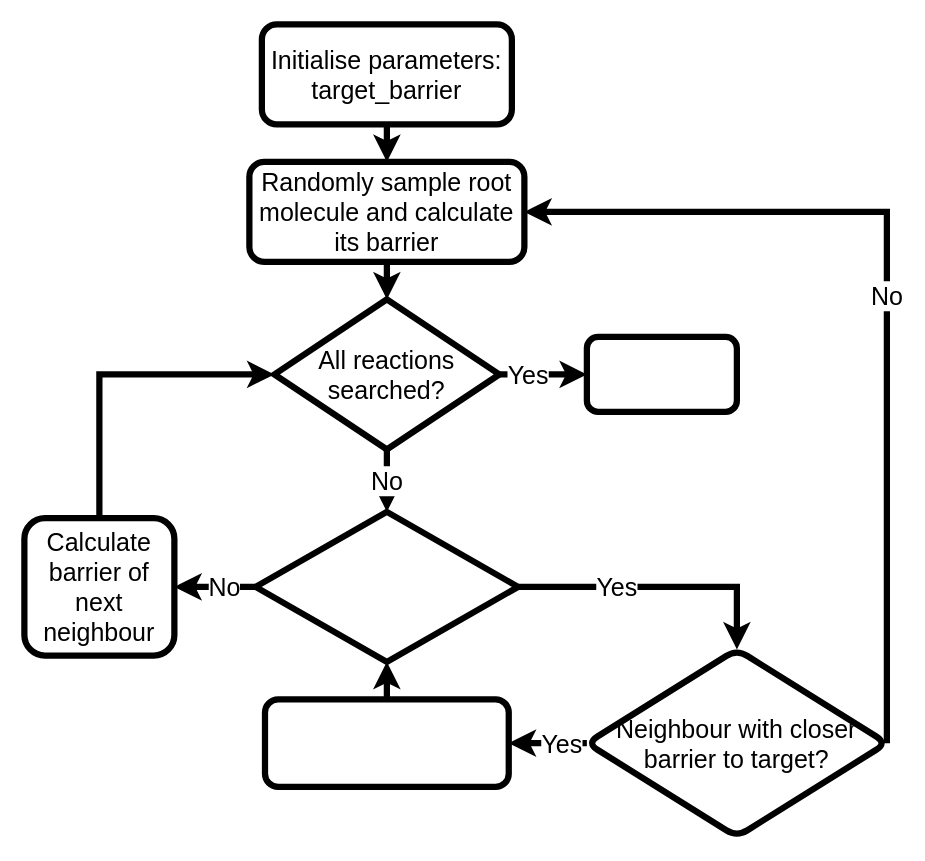
This 925x861 diagram has some shape labels left out. Here are the shapes that lost their labels. From the top down, the centre of each, then its label:
At point 661,373: "Terminate".
At point 386,586: "All neighbours searched?".
At point 386,742: "Set neighbour with closest barrier to target as new root".
